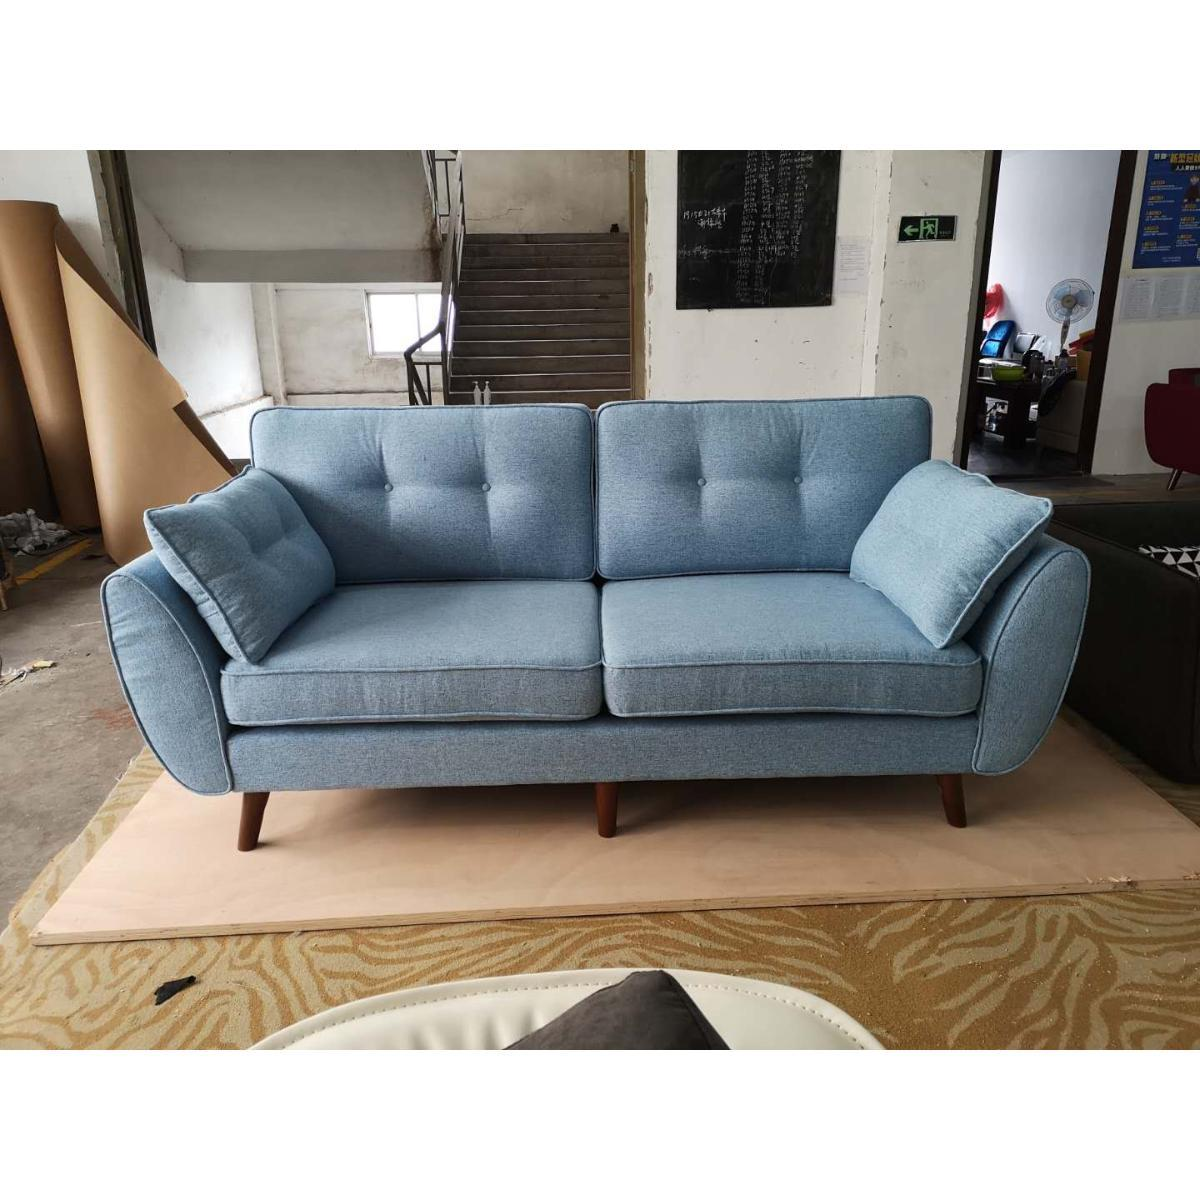Sofa: (95, 398, 1095, 845)
